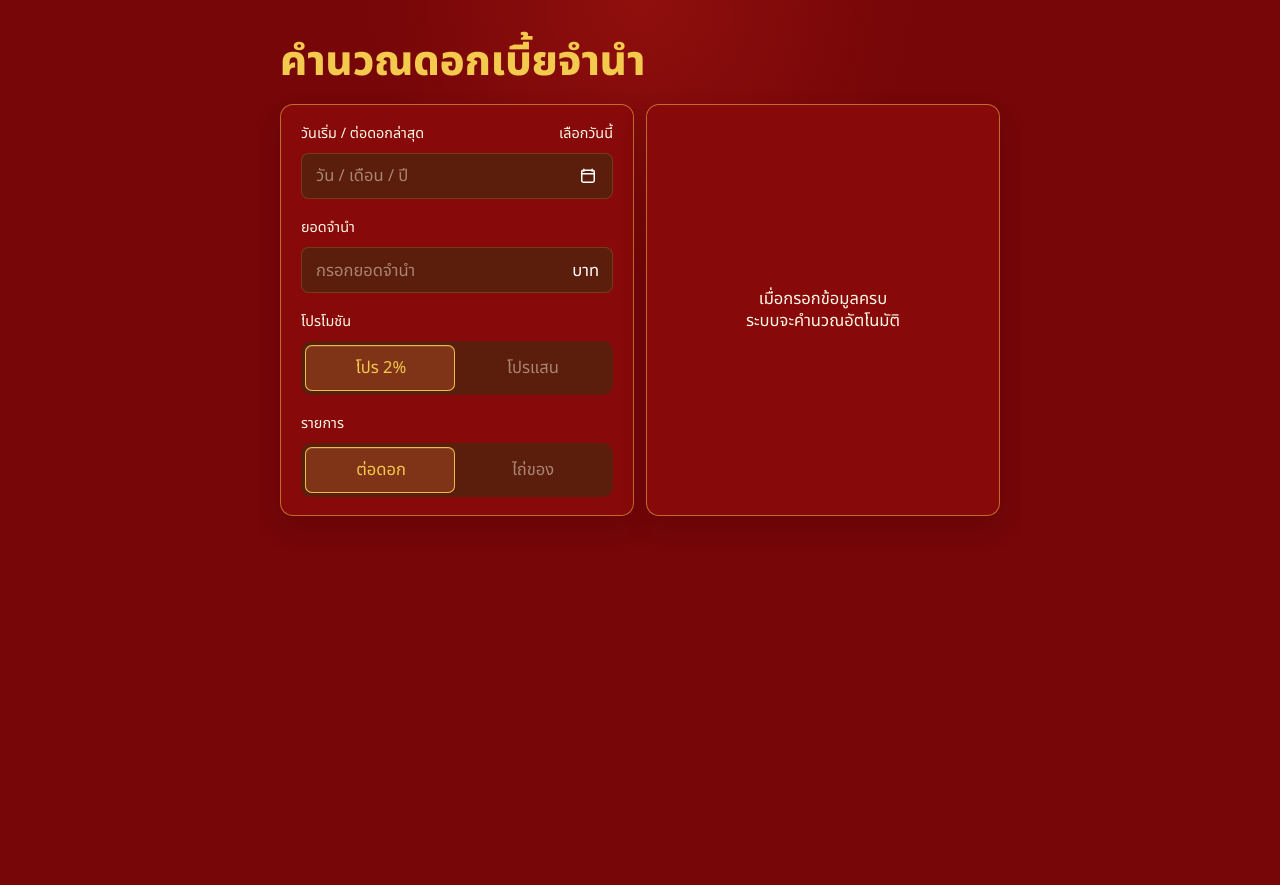
Test: ManualCalculator › shows zero months for same-day extension
Click the button with aria-label "วันเริ่ม / ต่อดอกล่าสุด" at (362, 176), box [301,153,613,199]
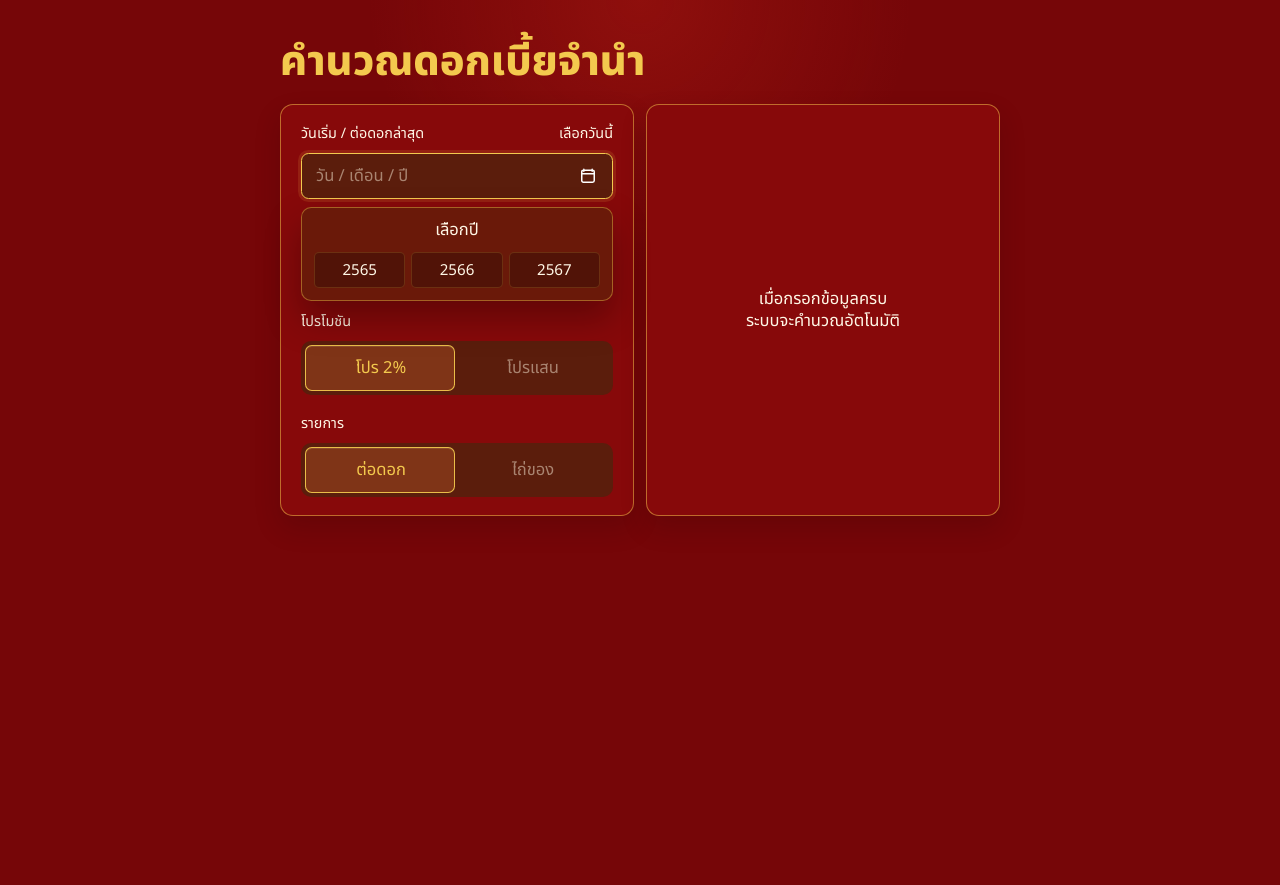
Click the button "2567" at (554, 270), box [509,252,600,288]
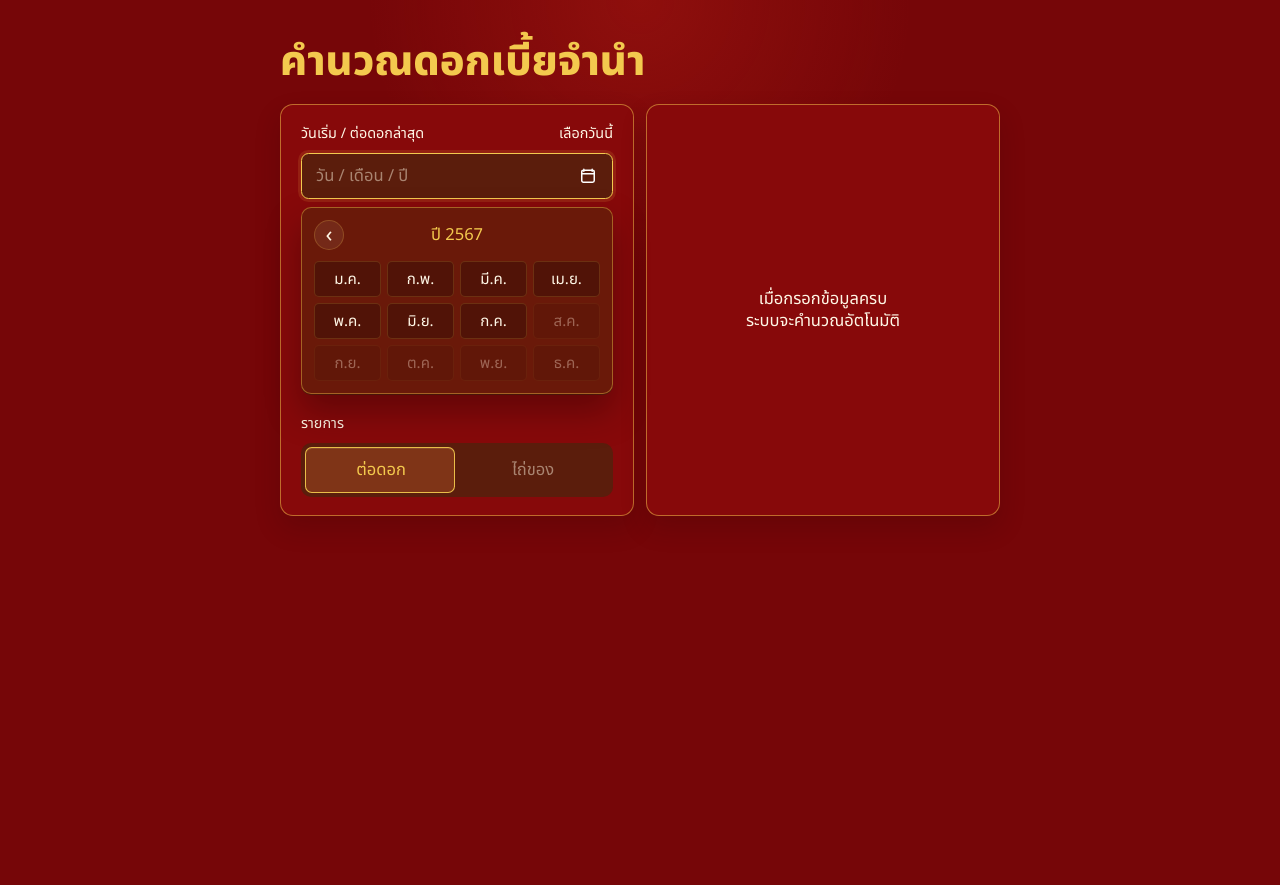
Click the button "ก.ค." at (494, 321), box [460,303,527,339]
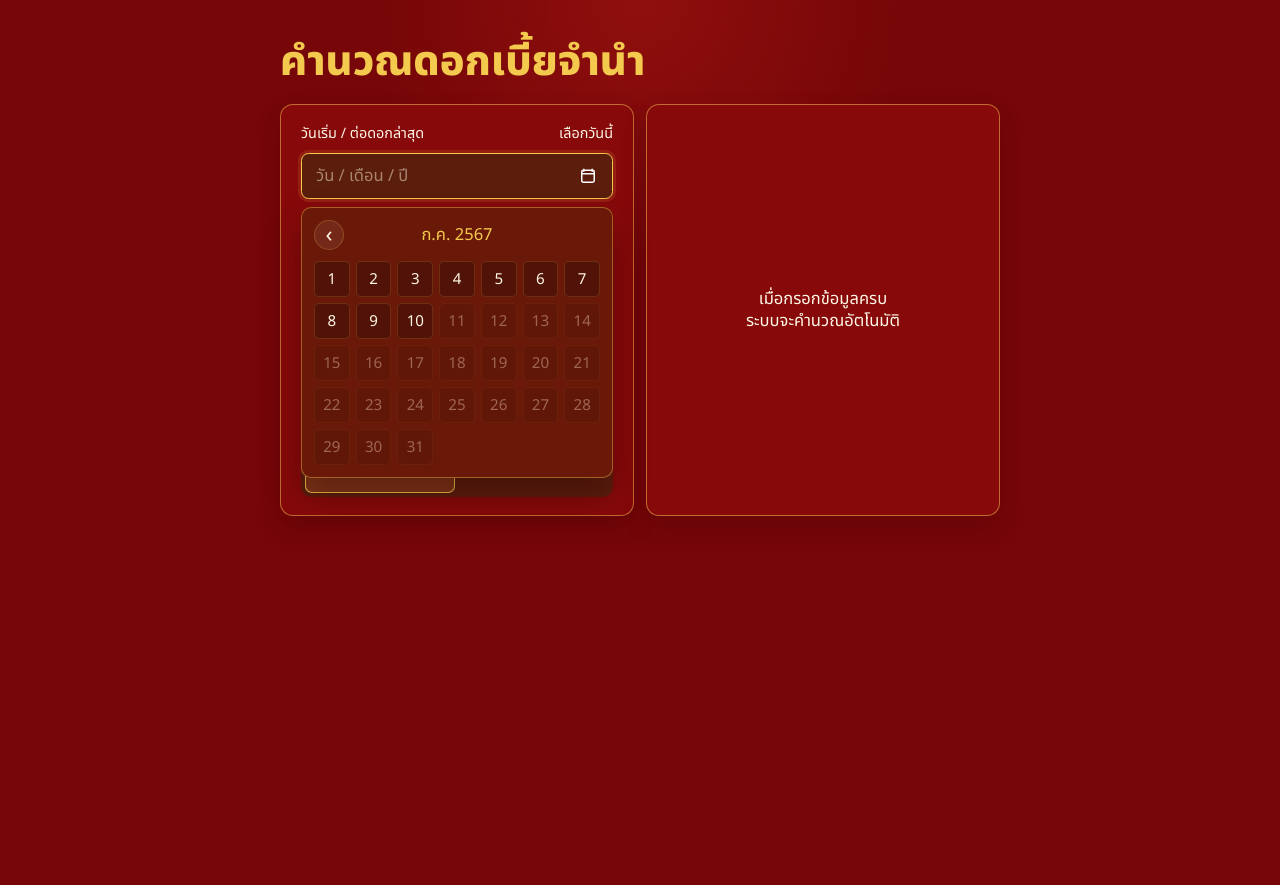
Click the button "10" at (415, 321), box [397,303,433,339]
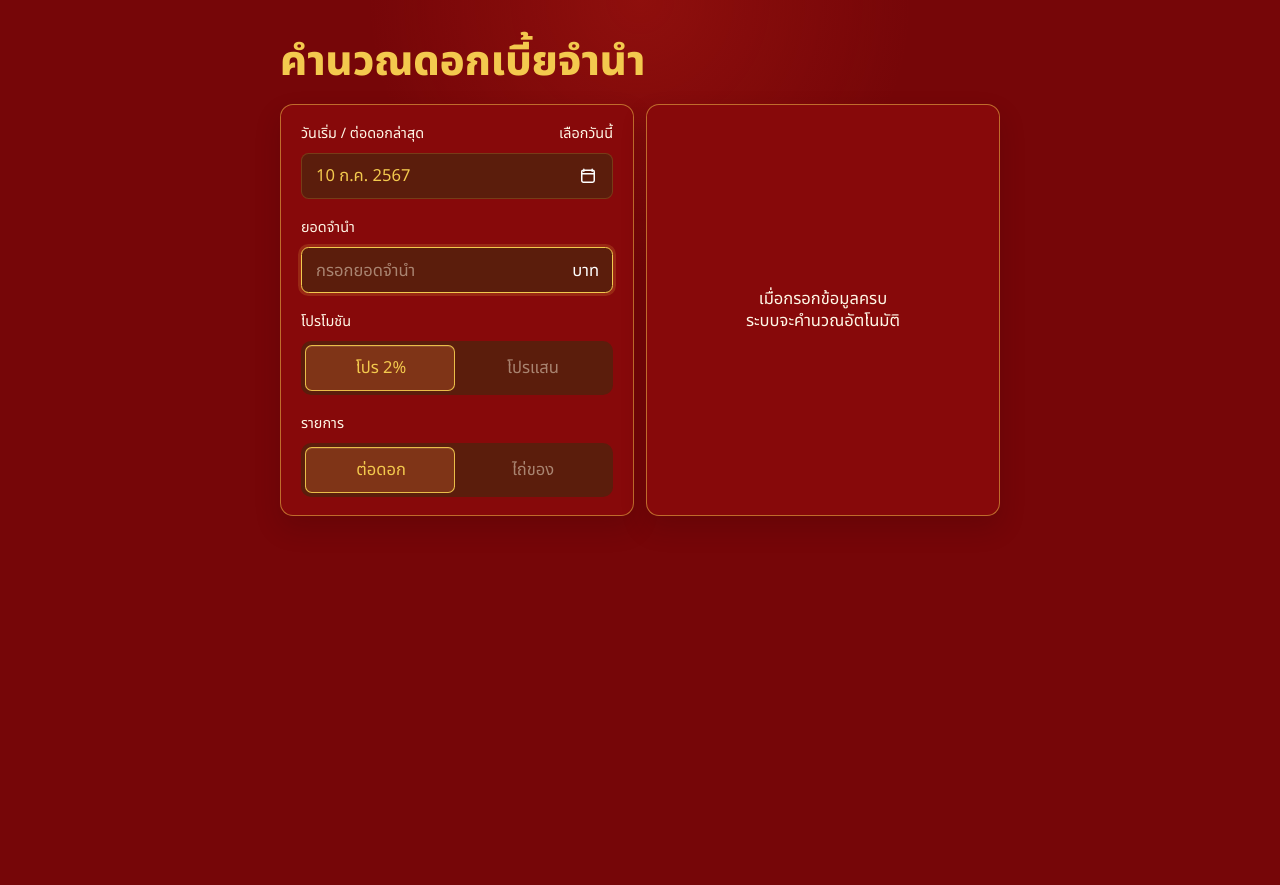
Type "12000" into the field labelled "ยอดจำนำ" at (457, 270), box [301,247,613,293]
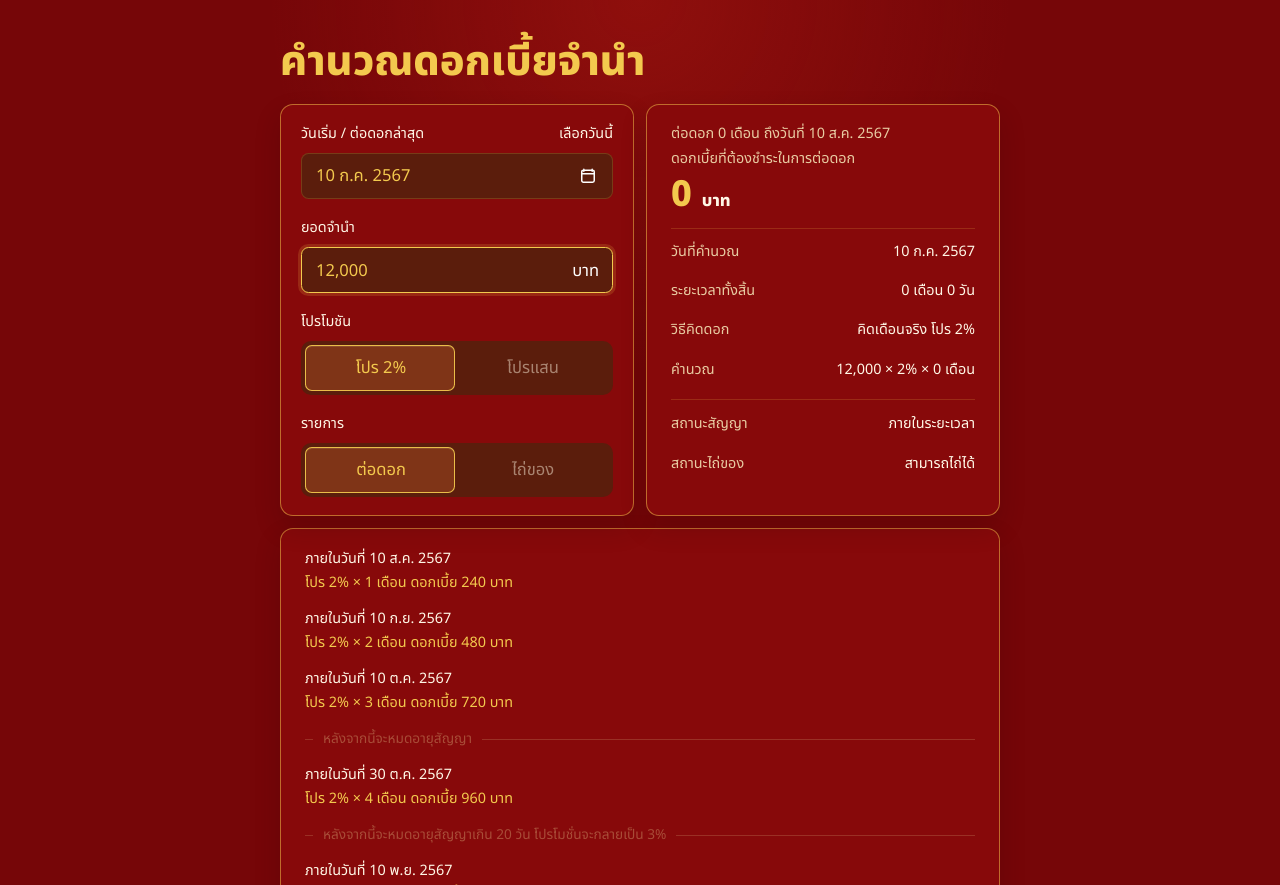
Expected: the text "0" is shown, [671,168,692,222]
Expected: the text "12,000 × 2% × 0 เดือน" is shown, [836,359,975,380]
Expected: the text "คิดเดือนจริง โปร 2%" is shown, [857,319,975,340]
